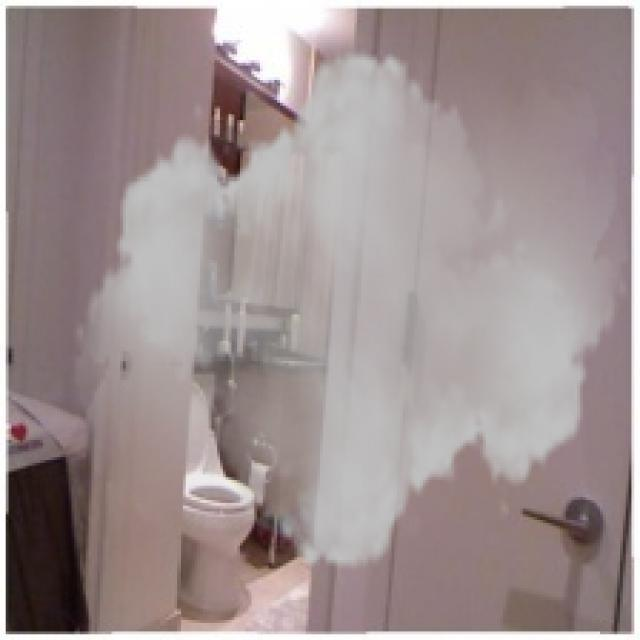Smoke: (74, 29, 629, 592)
